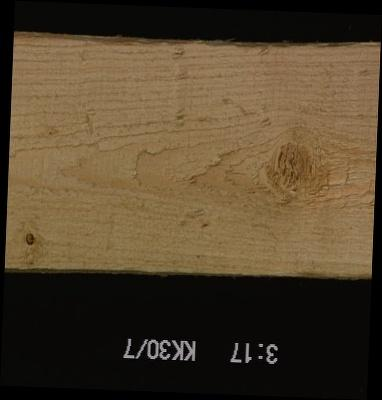dry_knot: (23, 229, 37, 247)
small_knot: (42, 126, 55, 142)
sound_knot: (262, 127, 322, 206)
wave: (275, 264, 369, 287)
